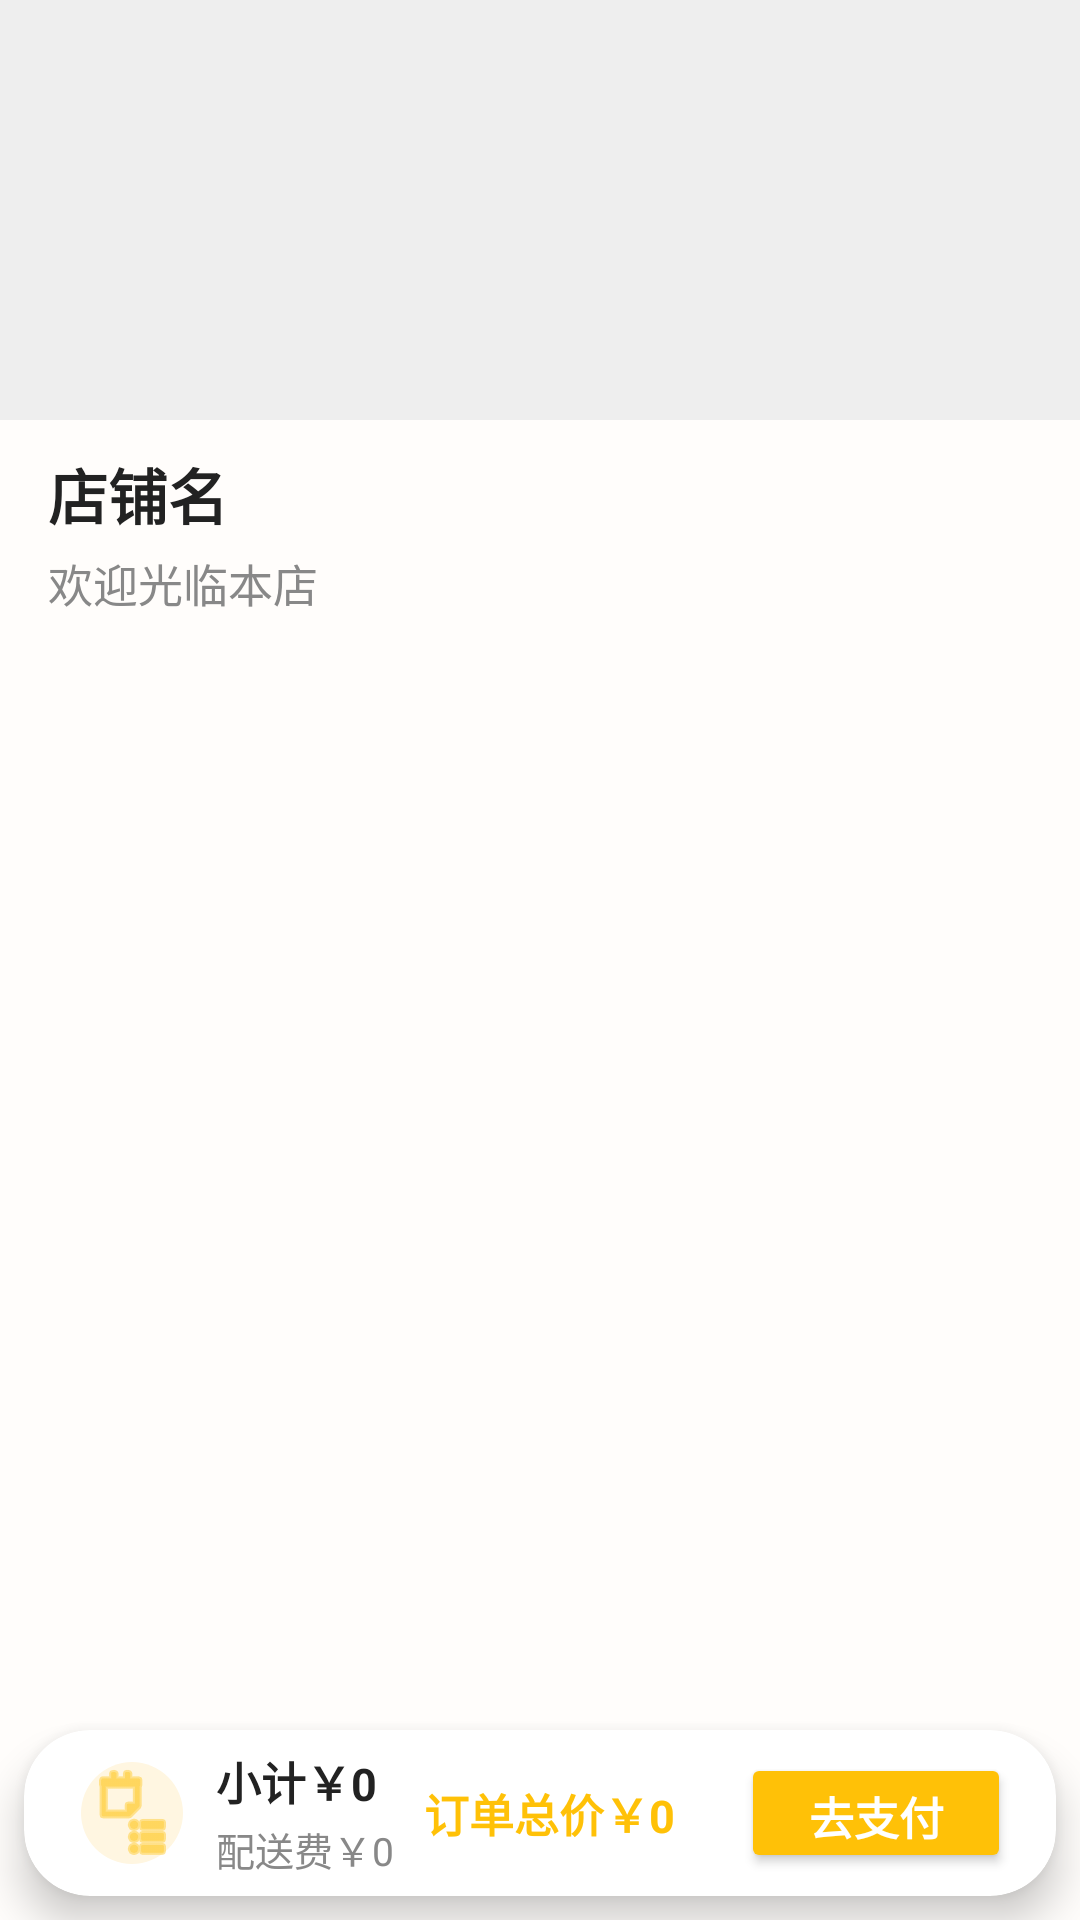

Point at icon controls on the screen. Image size 1080px×1920px, points as point (x, y).
agenda: point (132, 1813)
